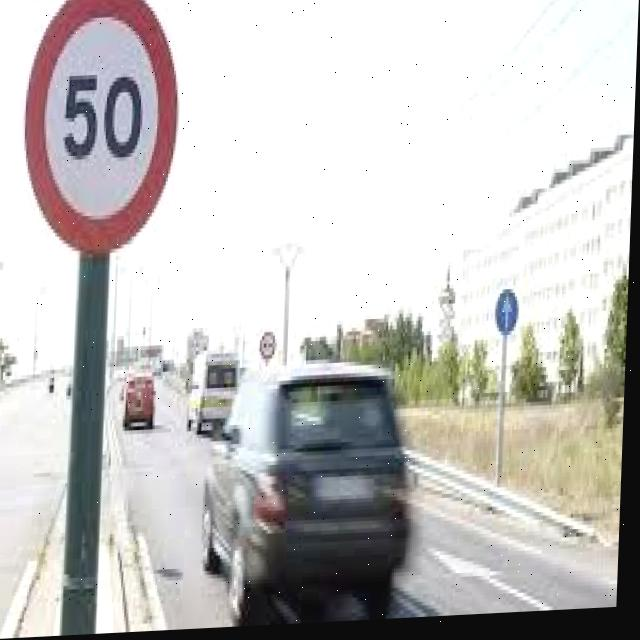Speed limit 50: (19, 1, 187, 263)
